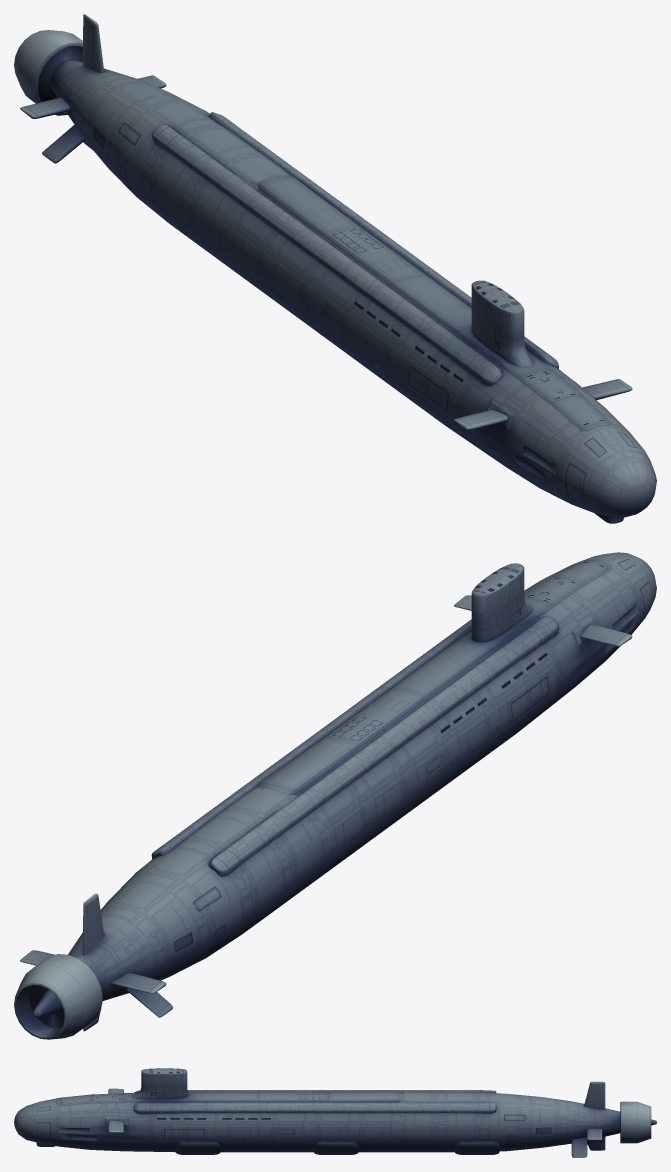
The model's file is submarine_01.fbx.
The picture shows the model from 3 angles, top to bottom: view 1: azimuth 30°, elevation 25°; view 2: azimuth 150°, elevation 25°; view 3: azimuth 270°, elevation 25°; orthographic projection. The views are drawn at different scales.
Visible parts, largest first — view 1: submrene; view 2: submrene; view 3: submrene.
Boxes of the visible parts, x1=… form: submrene: x1=14, y1=14, x2=656, y2=523; submrene: x1=14, y1=552, x2=656, y2=1039; submrene: x1=14, y1=1068, x2=656, y2=1157.
Size of the model in its own units: 18.21 by 15.79 by 114.
